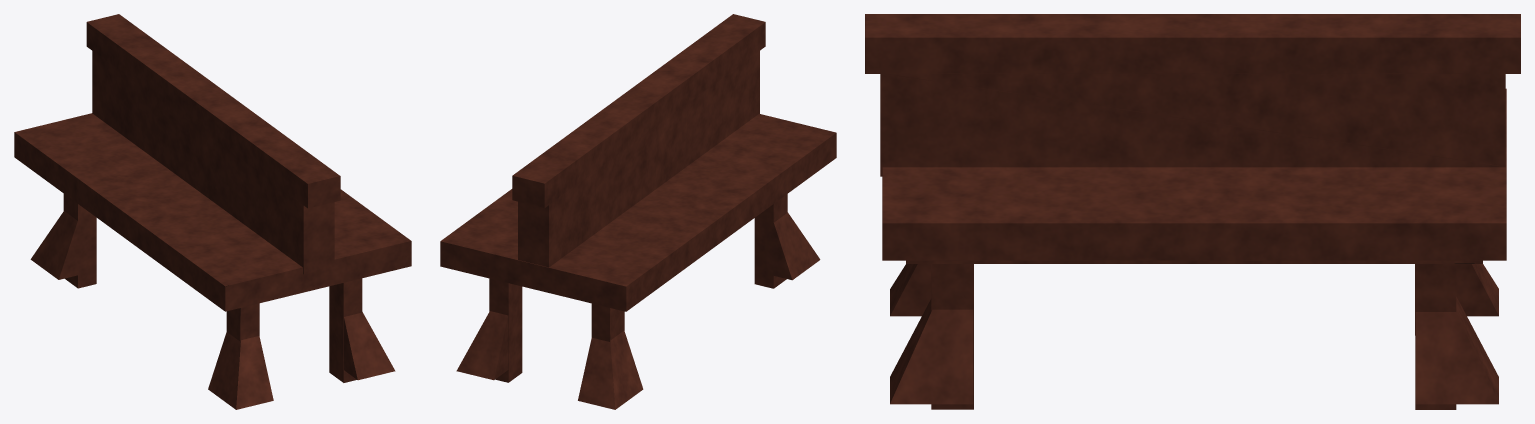
The model's file is bench.glb.
3 views of the same model, side by side, from view 1: azimuth 30°, elevation 25°; view 2: azimuth 150°, elevation 25°; view 3: azimuth 270°, elevation 25° (orthographic). The views are drawn at different scales.
Visible parts, largest first — view 1: bench_V51_TEMP; view 2: bench_V51_TEMP; view 3: bench_V51_TEMP.
Part boxes in pixels (x1=…): bench_V51_TEMP: x1=14, y1=14, x2=411, y2=409; bench_V51_TEMP: x1=440, y1=14, x2=836, y2=409; bench_V51_TEMP: x1=865, y1=14, x2=1520, y2=409.
Size of the model in its own units: 4.14 by 4.88 by 8.52.
Materials: 1 (1 with a texture image).
